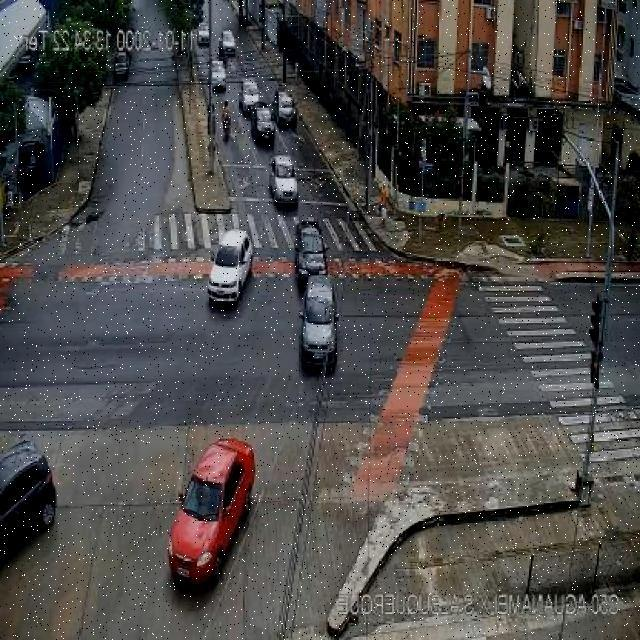Car: (166, 436, 256, 590), (1, 438, 56, 586), (298, 279, 338, 371), (208, 228, 255, 306), (294, 219, 327, 286), (269, 154, 299, 206), (252, 105, 277, 145), (238, 79, 260, 116), (276, 92, 297, 130), (112, 51, 131, 81), (209, 61, 227, 91), (219, 29, 236, 56), (197, 25, 210, 47)
